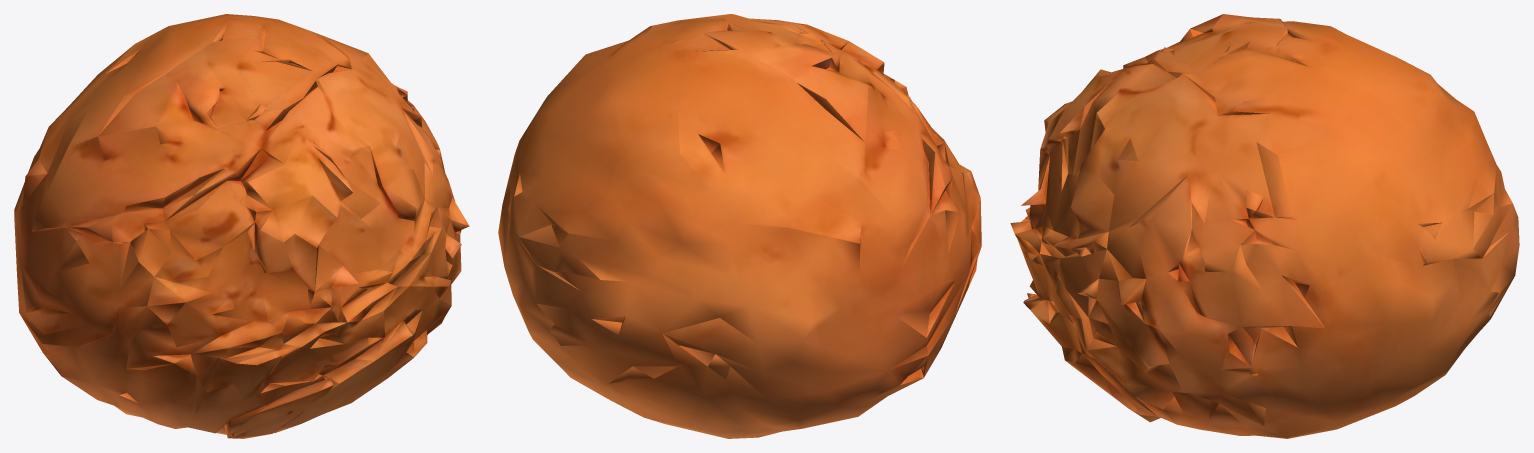
Rendered from marsBoulder.glb.
The picture shows the model from 3 angles, left to right: view 1: azimuth 30°, elevation 25°; view 2: azimuth 150°, elevation 25°; view 3: azimuth 270°, elevation 25°; orthographic projection. The views are drawn at different scales.
Visible parts, largest first — view 1: model; view 2: model; view 3: model.
Part boxes in pixels (bbox=[...]): model: bbox=[14, 14, 469, 438]; model: bbox=[498, 14, 981, 438]; model: bbox=[1010, 14, 1519, 438].
Size of the model in its own units: 1.78 by 1.56 by 1.89.
1 material, 1 textured.
